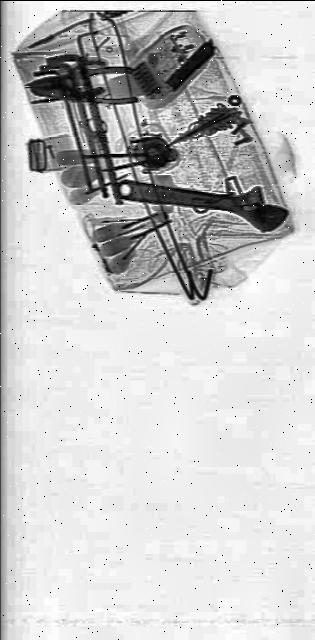Pliers: (28, 64, 136, 110)
Wrench: (116, 166, 288, 237)
